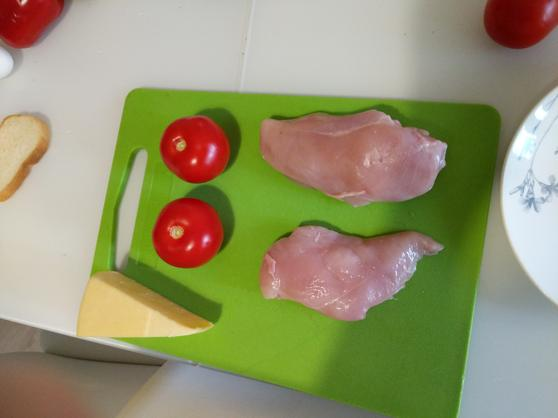cheese: (74, 265, 221, 343)
chicken_fillet: (256, 104, 450, 208), (257, 218, 443, 323)
tomato: (154, 195, 225, 266), (159, 118, 229, 180), (486, 1, 556, 50)
white_bread: (1, 108, 52, 202)
